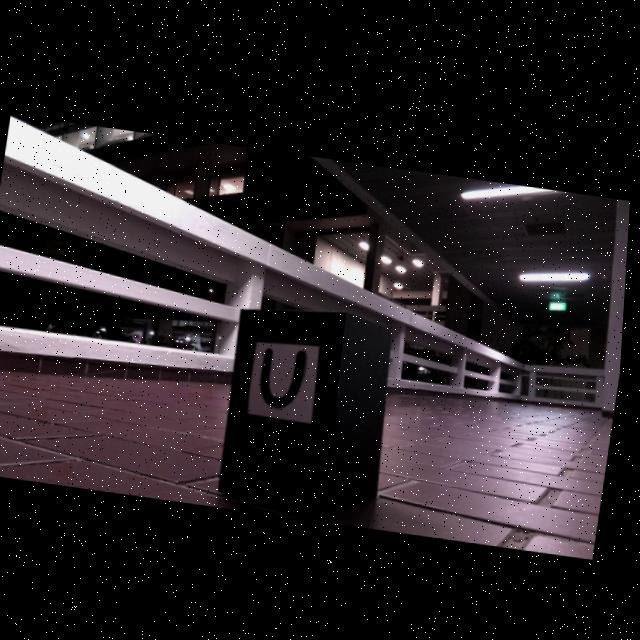U: (265, 345, 311, 405)
